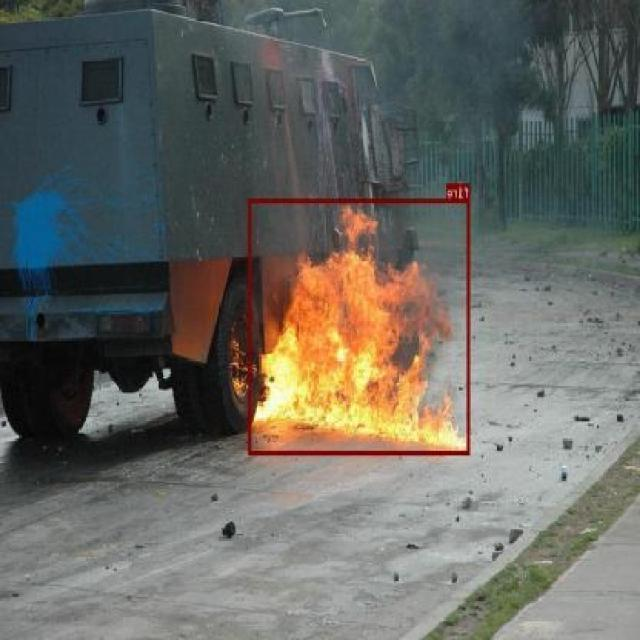Fire: (245, 208, 472, 456)
Smoke: (275, 0, 540, 322)
